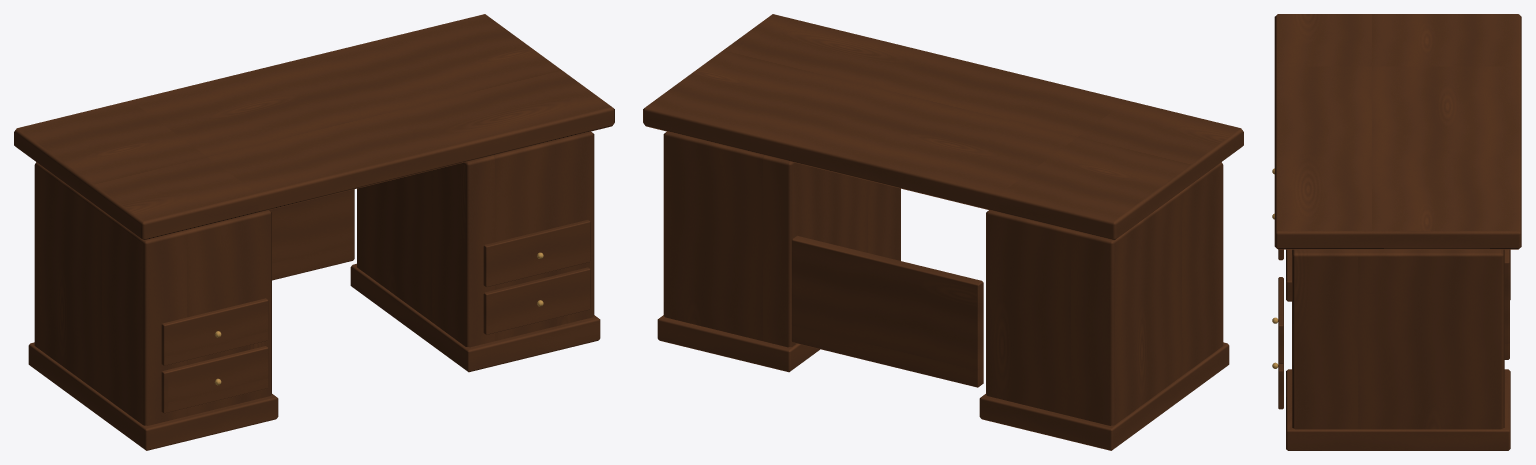
File: desk_premium_lod1.glb
3 renders of one model, left to right at view 1: azimuth 30°, elevation 25°; view 2: azimuth 150°, elevation 25°; view 3: azimuth 270°, elevation 25°, orthographic. The views are drawn at different scales.
Parts seen in each view (by area): view 1: BATCH_Desk_Premium_LOD1_Desk_Premium_Body, BATCH_Desk_Premium_LOD1_Desk_Premium_Surface; view 2: BATCH_Desk_Premium_LOD1_Desk_Premium_Body, BATCH_Desk_Premium_LOD1_Desk_Premium_Surface; view 3: BATCH_Desk_Premium_LOD1_Desk_Premium_Surface, BATCH_Desk_Premium_LOD1_Desk_Premium_Body.
Boxes of the visible parts, box(x1,y1,x2,y2) form: BATCH_Desk_Premium_LOD1_Desk_Premium_Body: box(28, 131, 600, 450); BATCH_Desk_Premium_LOD1_Desk_Premium_Surface: box(14, 14, 614, 240); BATCH_Desk_Premium_LOD1_Desk_Premium_Body: box(657, 131, 1229, 450); BATCH_Desk_Premium_LOD1_Desk_Premium_Surface: box(643, 14, 1243, 240); BATCH_Desk_Premium_LOD1_Desk_Premium_Surface: box(1274, 14, 1521, 249); BATCH_Desk_Premium_LOD1_Desk_Premium_Body: box(1278, 249, 1510, 450).
Size of the model in its own units: 1.64 by 0.78 by 0.788.
Materials: 3 (2 with a texture image).
